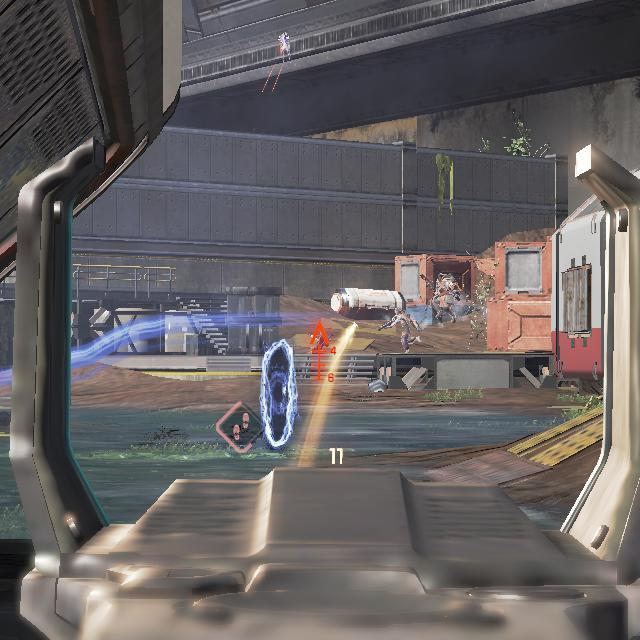avatar: (430, 272, 462, 325), (394, 306, 422, 354)
